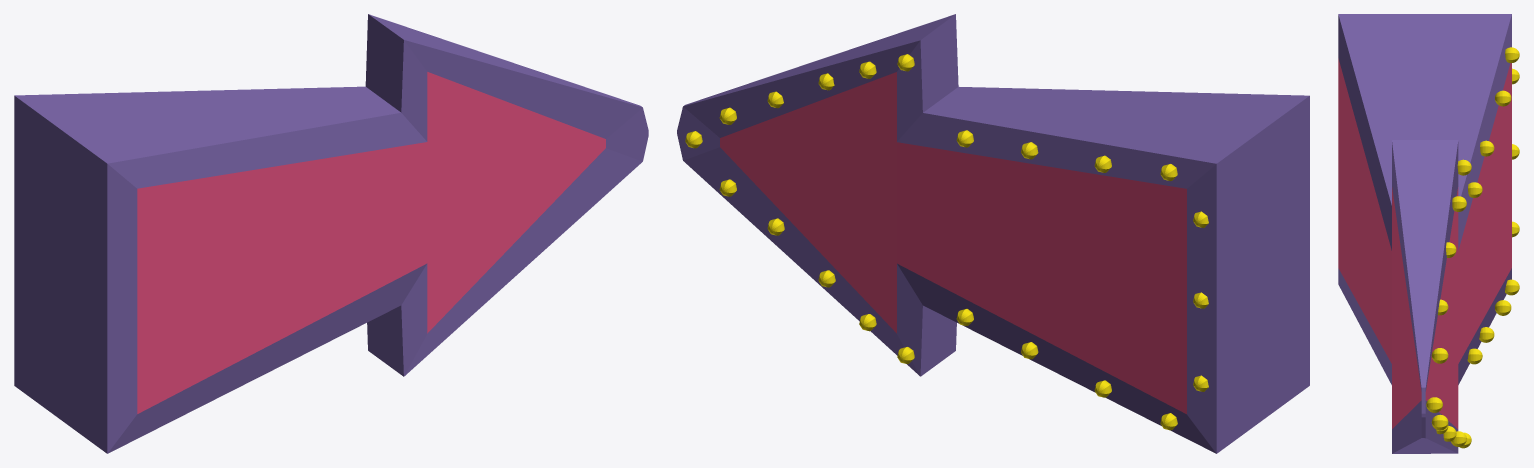
File: Arrow.fbx
3 renders of one model, left to right at view 1: azimuth 30°, elevation 25°; view 2: azimuth 150°, elevation 25°; view 3: azimuth 270°, elevation 25°, orthographic. The views are drawn at different scales.
Visible parts, largest first — view 1: Cube.005, Cube.004; view 2: Cube.005, Cube.004; view 3: Cube.005, Cube.004, Sphere.022, Sphere.032, Sphere.011, Sphere.031, Sphere.026, Sphere.014, Sphere.024, Sphere.020, Sphere.025, Sphere.023 (+3 smaller).
Boxes of the visible parts, left/top/right/bottom form: Cube.005: left=14, top=14, right=648, bottom=453; Cube.004: left=137, top=72, right=605, bottom=413; Cube.005: left=677, top=14, right=1309, bottom=453; Cube.004: left=720, top=72, right=1186, bottom=414; Cube.005: left=1338, top=14, right=1511, bottom=453; Cube.004: left=1338, top=58, right=1511, bottom=428; Sphere.022: left=1495, top=90, right=1511, bottom=106; Sphere.032: left=1431, top=414, right=1448, bottom=430; Sphere.011: left=1426, top=397, right=1442, bottom=412; Sphere.031: left=1431, top=348, right=1448, bottom=363; Sphere.026: left=1495, top=300, right=1511, bottom=315; Sphere.014: left=1452, top=196, right=1466, bottom=211; Sphere.024: left=1467, top=348, right=1482, bottom=364; Sphere.020: left=1468, top=182, right=1482, bottom=197; Sphere.025: left=1479, top=327, right=1494, bottom=342; Sphere.023: left=1505, top=47, right=1519, bottom=63.
Size of the model in its own units: 357 by 196 by 103.
